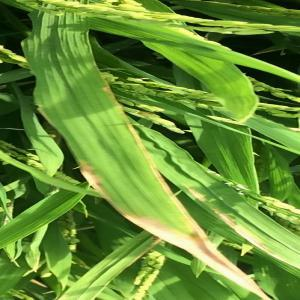2 BacterialBlight: (83, 85, 147, 224)
